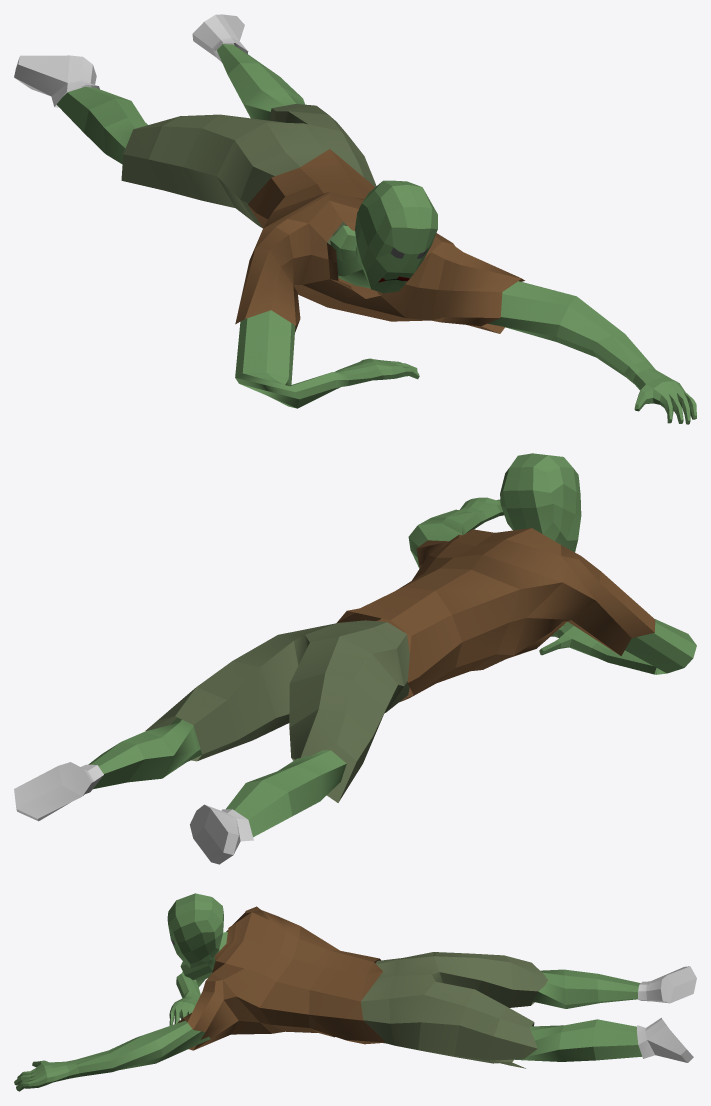
File: ZombieCrawl(114).obj
The picture shows the model from 3 angles, top to bottom: view 1: azimuth 30°, elevation 25°; view 2: azimuth 150°, elevation 25°; view 3: azimuth 270°, elevation 25°; orthographic projection. The views are drawn at different scales.
Visible parts, largest first — view 1: Object001; view 2: Object001; view 3: Object001.
Part boxes in pixels (left/top/right/bottom): Object001: left=14, top=14, right=696, bottom=424; Object001: left=14, top=453, right=696, bottom=864; Object001: left=14, top=893, right=696, bottom=1091.
Bounding box in the file's own units: 31.4 × 17.01 × 75.8.
